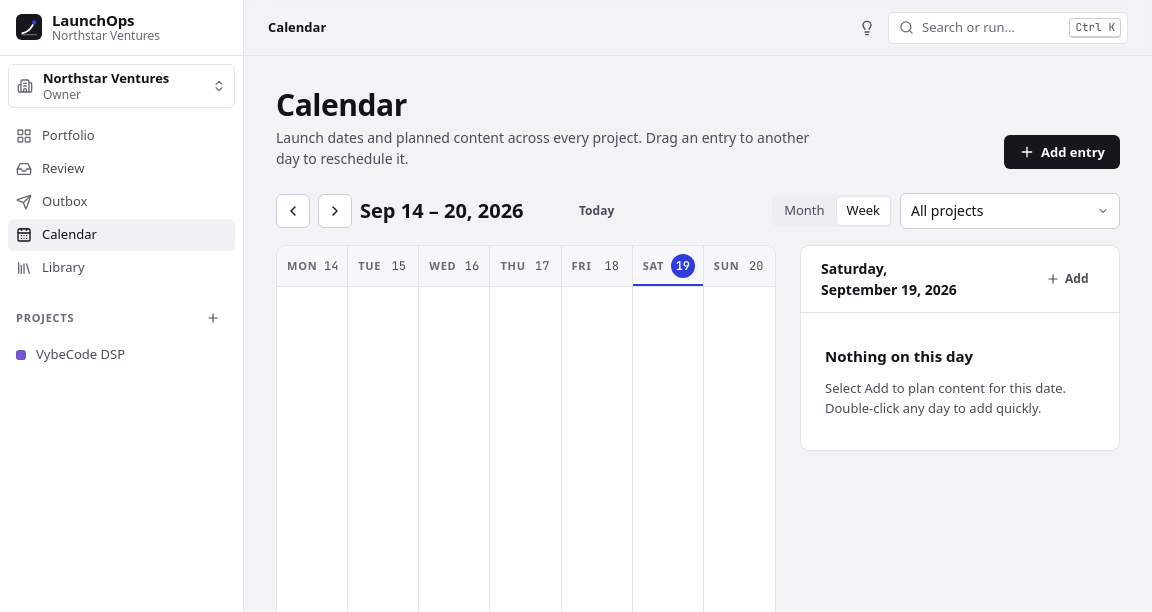
Test: Calendar navigation › switches from the week view back to the month that holds the selected day
Expected: the button "Add entry" is enabled, [1004, 135, 1120, 169]
Click the button "Mon 14" at (312, 266), box [277, 246, 347, 287]
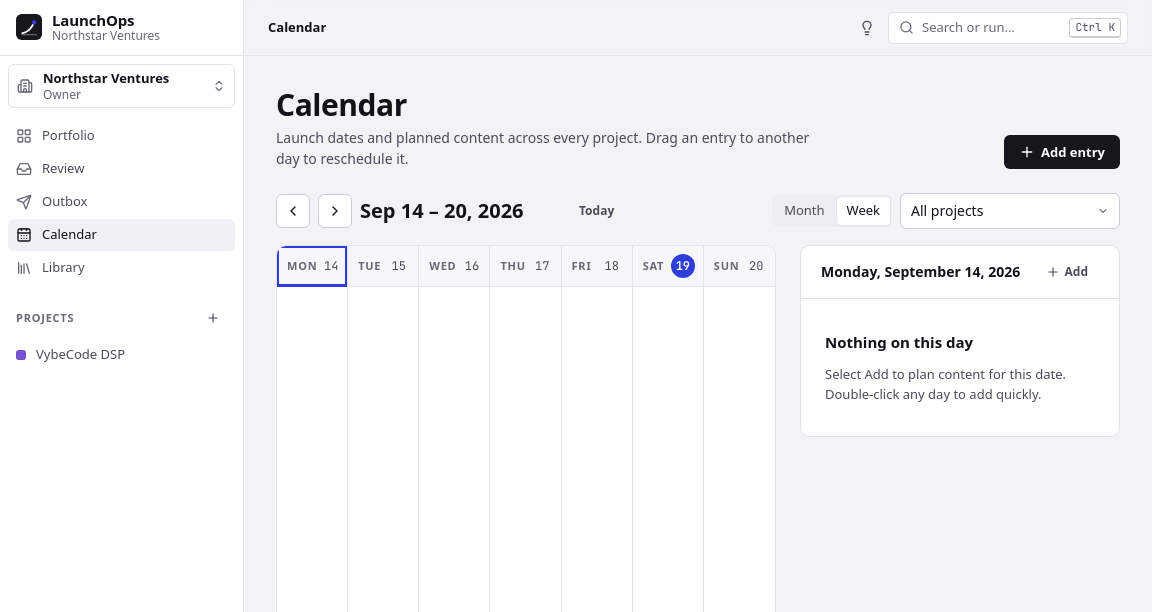
Click the button "Month" at (804, 211), box [774, 197, 834, 225]
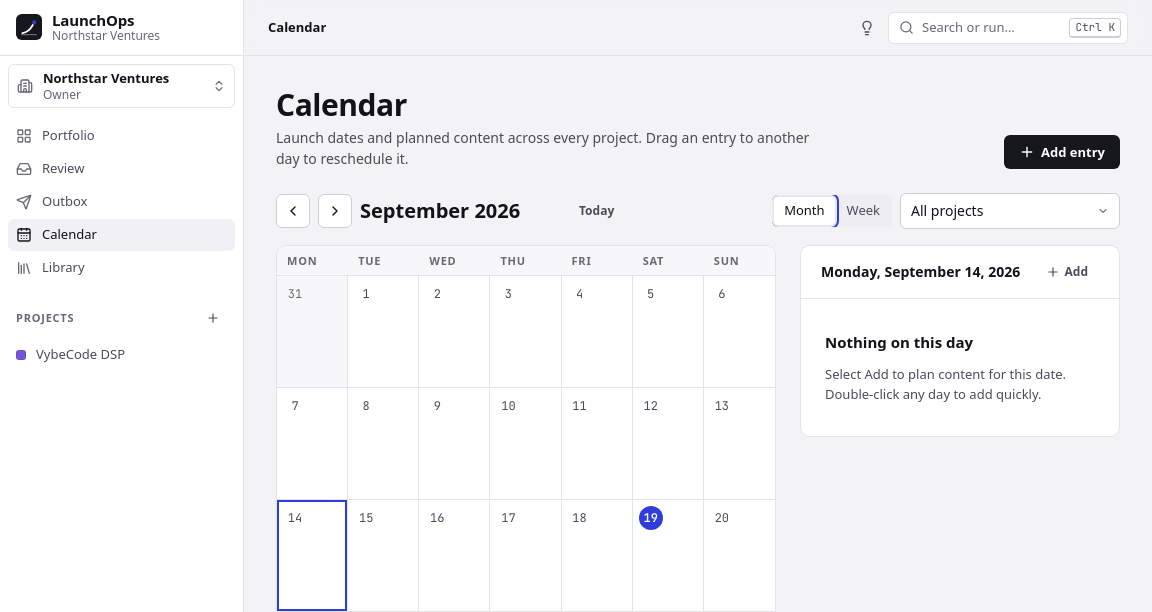
Result: the heading "September 2026" is shown at [360, 197, 520, 224]
